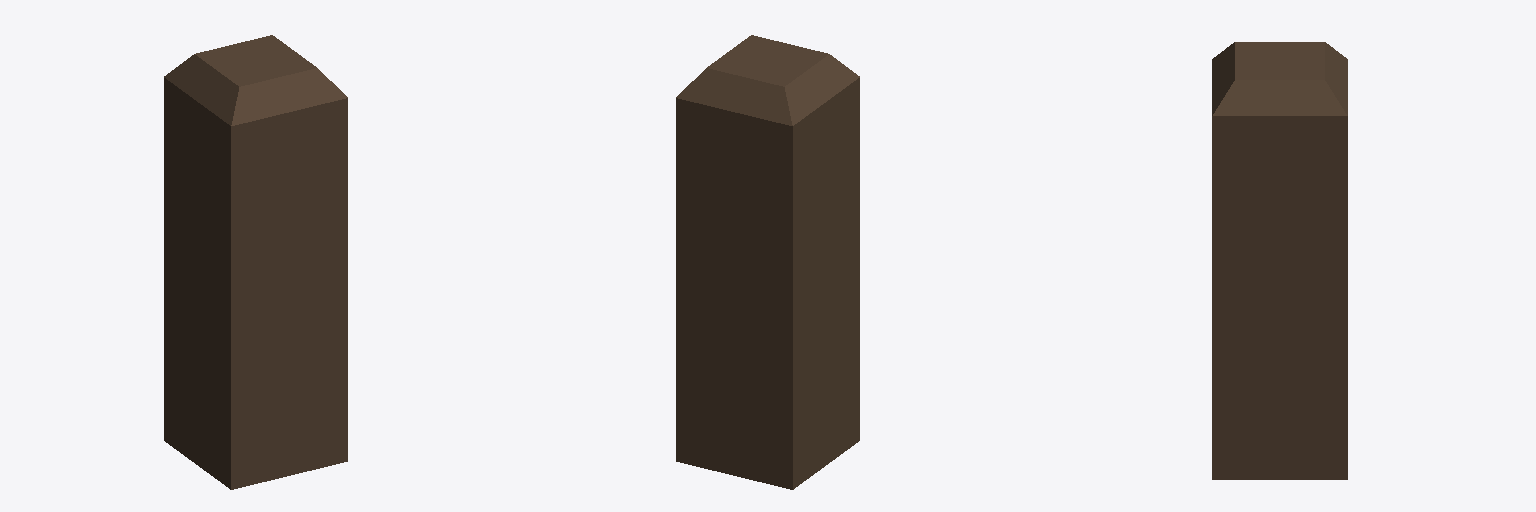
File: Wood_Post_Small.obj
3 views of the same model, side by side, from view 1: azimuth 30°, elevation 25°; view 2: azimuth 150°, elevation 25°; view 3: azimuth 270°, elevation 25° (orthographic).
Visible parts, largest first — view 1: object1; view 2: object1; view 3: object1.
Boxes of the visible parts, box(x1,y1,x2,y2) form: object1: box(164, 35, 347, 489); object1: box(676, 35, 859, 489); object1: box(1212, 42, 1347, 479).
Bounding box in the file's own units: 0.1732 × 0.5516 × 0.1732.